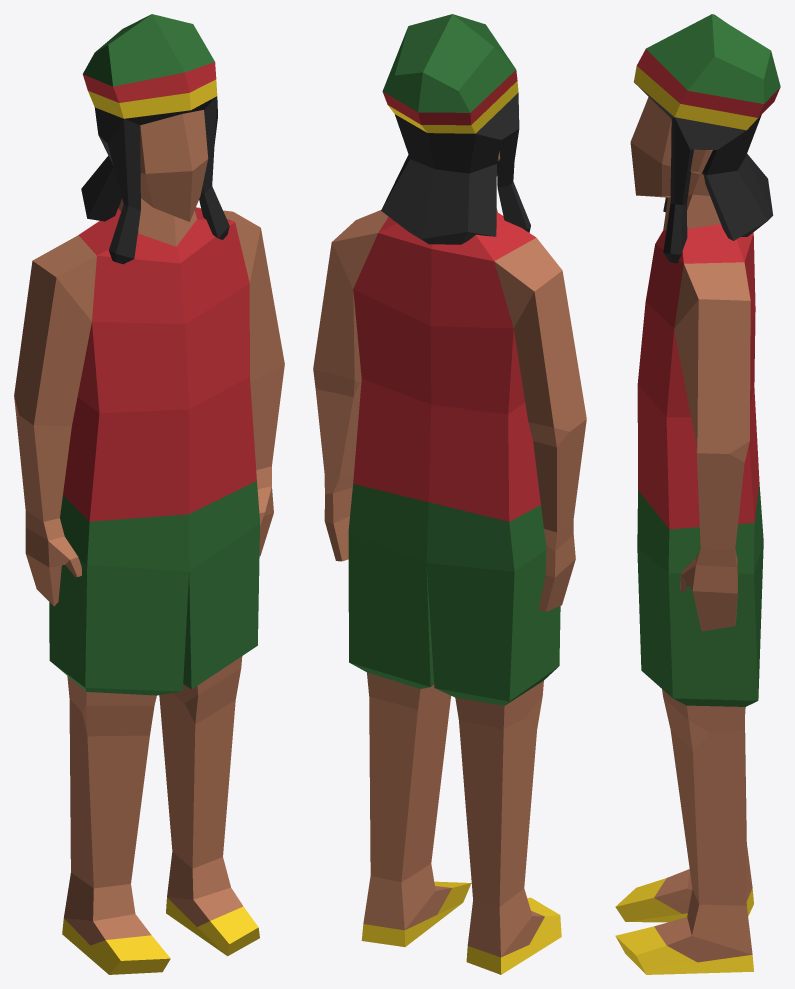
Rendered from people_man-jamaica.fbx.
The picture shows the model from 3 angles, left to right: view 1: azimuth 30°, elevation 25°; view 2: azimuth 150°, elevation 25°; view 3: azimuth 270°, elevation 25°; orthographic projection.
Parts seen in each view (by area): view 1: people_man_jamaica; view 2: people_man_jamaica; view 3: people_man_jamaica.
Boxes of the visible parts, x1,y1,x2,y2 form: people_man_jamaica: [14, 14, 284, 974]; people_man_jamaica: [313, 14, 586, 974]; people_man_jamaica: [615, 14, 780, 974].
Size of the model in its own units: 57.18 by 200 by 32.45.
